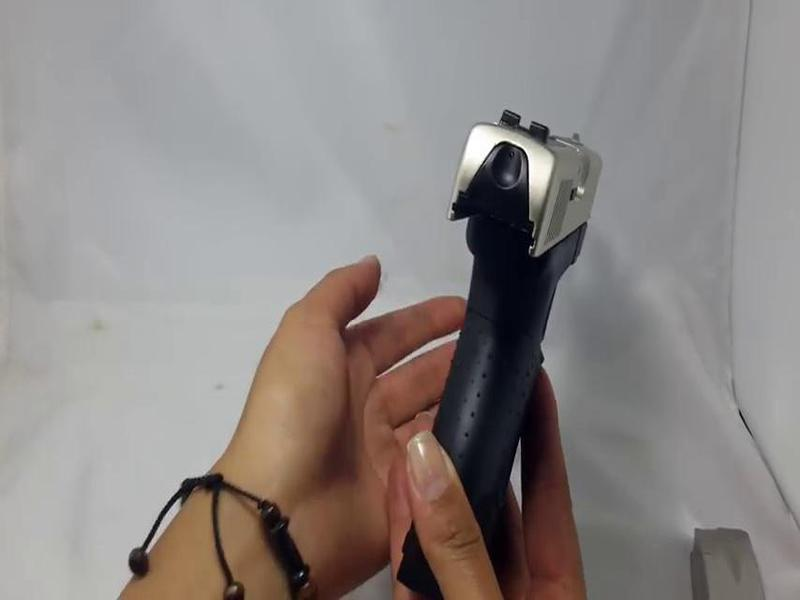Pistola: (343, 116, 655, 573)
